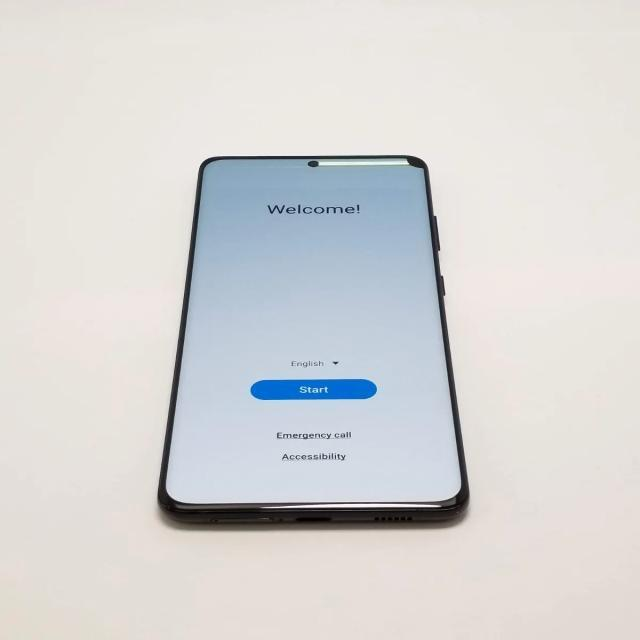dead pixel: (396, 144, 435, 175)
